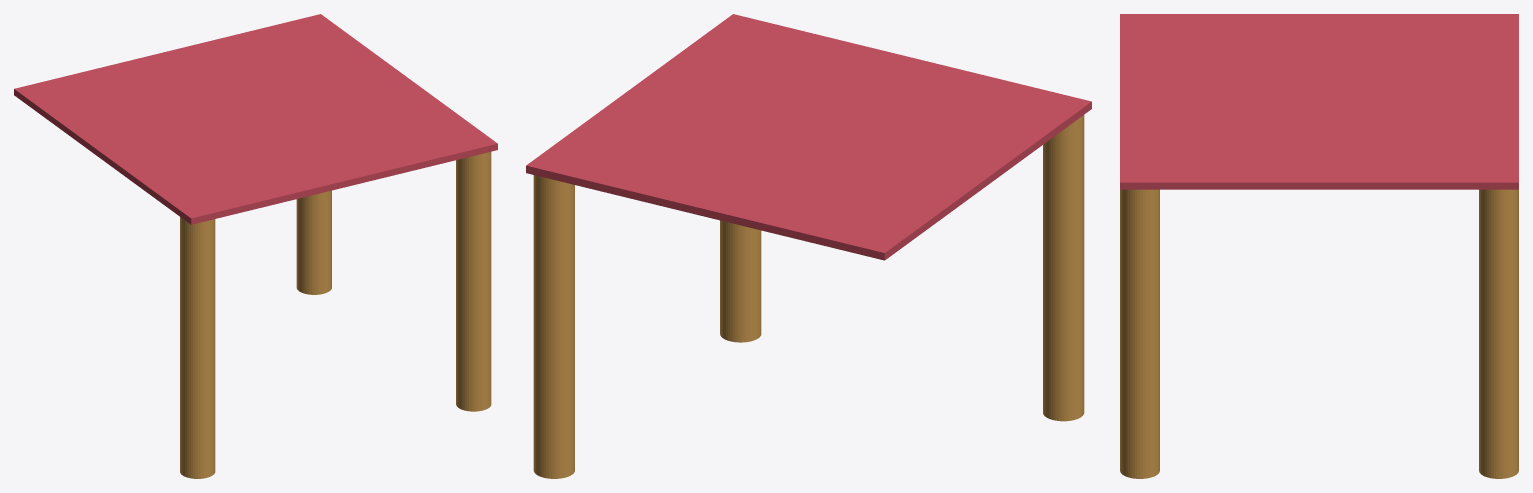
Rendered from Ingenious Bojo.glb.
3 views of the same model, side by side, from view 1: azimuth 30°, elevation 25°; view 2: azimuth 150°, elevation 25°; view 3: azimuth 270°, elevation 25° (orthographic). The views are drawn at different scales.
Parts seen in each view (by area): view 1: Mesh_Mesh_head_geo.001_lambert2SG.001; view 2: Mesh_Mesh_head_geo.001_lambert2SG.001; view 3: Mesh_Mesh_head_geo.001_lambert2SG.001.
Boxes of the visible parts, left/top/right/bottom form: Mesh_Mesh_head_geo.001_lambert2SG.001: left=14, top=14, right=497, bottom=478; Mesh_Mesh_head_geo.001_lambert2SG.001: left=526, top=14, right=1091, bottom=478; Mesh_Mesh_head_geo.001_lambert2SG.001: left=1120, top=14, right=1518, bottom=478.
Size of the model in its own units: 0.05 by 0.041 by 0.05.
